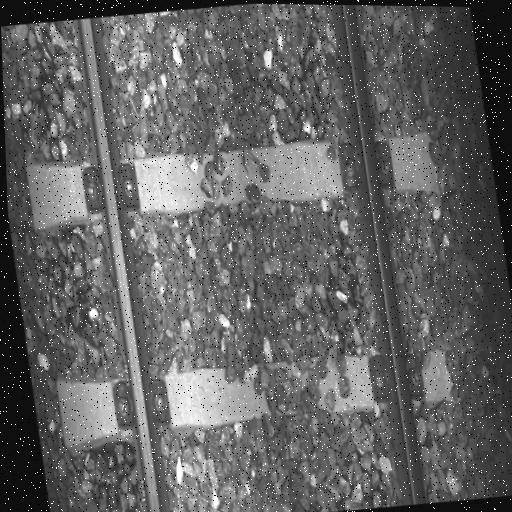sleeper: (22, 114, 458, 244), (52, 328, 481, 446)
